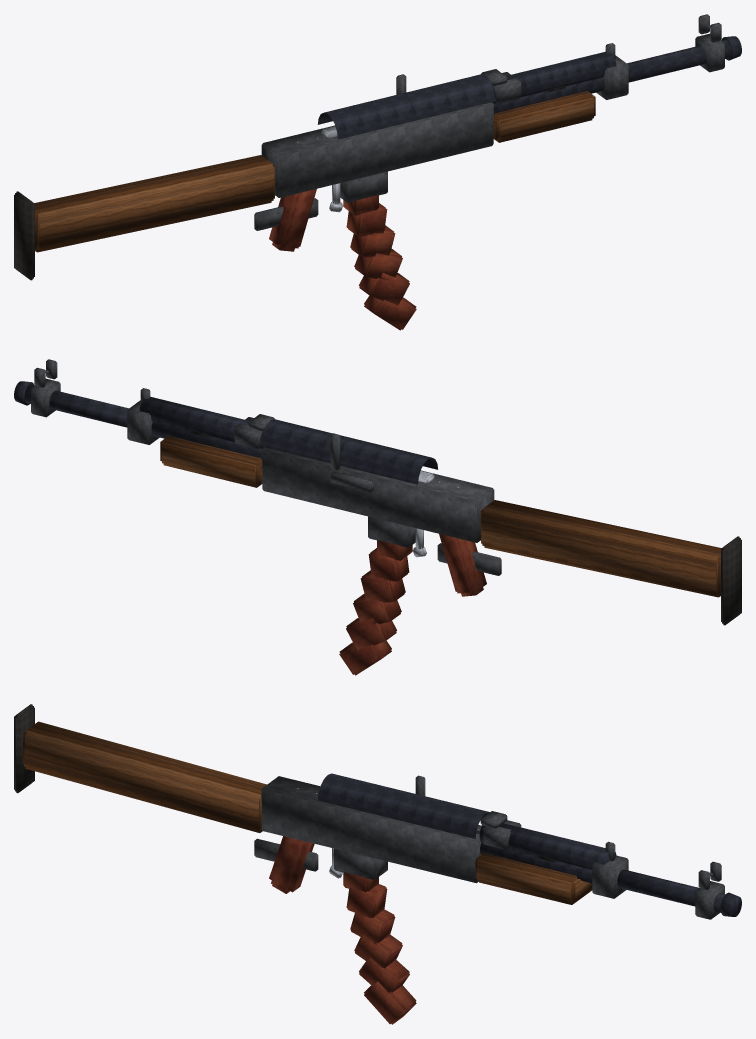
3 views of the same model, one above another, from view 1: azimuth 30°, elevation 25°; view 2: azimuth 150°, elevation 25°; view 3: azimuth 330°, elevation 25° (orthographic).
Parts seen in each view (by area): view 1: Outer_Shell, Inner_Part_13, Inner_Part_1, Inner_Part_2, Inner_Part_8, Inner_Part_11, Inner_Part_7, Inner_Part_15, Inner_Part_14, Inner_Part_10, Inner_Part_9, Inner_Part_12; view 2: Inner_Part_13, Outer_Shell, Inner_Part_1, Inner_Part_2, Inner_Part_8, Inner_Part_11, Inner_Part_7, Inner_Part_15, Inner_Part_14, Inner_Part_10, Inner_Part_9, Inner_Part_18 (+1 smaller); view 3: Outer_Shell, Inner_Part_13, Inner_Part_1, Inner_Part_2, Inner_Part_8, Inner_Part_11, Inner_Part_7, Inner_Part_15, Inner_Part_9, Inner_Part_14, Inner_Part_10, Inner_Part_12.
Part boxes in pixels (left/top/right/bottom): Outer_Shell: left=254, top=102, right=493, bottom=230; Inner_Part_13: left=34, top=155, right=275, bottom=252; Inner_Part_1: left=343, top=195, right=416, bottom=330; Inner_Part_2: left=317, top=74, right=495, bottom=139; Inner_Part_8: left=493, top=91, right=595, bottom=142; Inner_Part_11: left=493, top=36, right=741, bottom=115; Inner_Part_7: left=492, top=51, right=616, bottom=103; Inner_Part_15: left=269, top=189, right=316, bottom=251; Inner_Part_14: left=14, top=191, right=34, bottom=280; Inner_Part_10: left=695, top=14, right=724, bottom=72; Inner_Part_9: left=596, top=43, right=628, bottom=99; Inner_Part_12: left=481, top=69, right=521, bottom=103; Inner_Part_13: left=480, top=500, right=721, bottom=597; Outer_Shell: left=262, top=447, right=501, bottom=575; Inner_Part_1: left=339, top=540, right=412, bottom=675; Inner_Part_2: left=260, top=419, right=438, bottom=484; Inner_Part_8: left=160, top=436, right=262, bottom=487; Inner_Part_11: left=14, top=381, right=262, bottom=460; Inner_Part_7: left=139, top=396, right=263, bottom=448; Inner_Part_15: left=439, top=534, right=486, bottom=596; Inner_Part_14: left=721, top=536, right=741, bottom=625; Inner_Part_10: left=31, top=359, right=60, bottom=417; Inner_Part_9: left=127, top=388, right=159, bottom=444; Inner_Part_18: left=330, top=433, right=373, bottom=492; Outer_Shell: left=254, top=776, right=481, bottom=883; Inner_Part_13: left=22, top=721, right=266, bottom=832; Inner_Part_1: left=343, top=872, right=416, bottom=1024; Inner_Part_2: left=317, top=773, right=489, bottom=838; Inner_Part_8: left=475, top=853, right=592, bottom=904; Inner_Part_11: left=480, top=842, right=741, bottom=916; Inner_Part_7: left=479, top=823, right=616, bottom=869; Inner_Part_15: left=269, top=836, right=314, bottom=893; Inner_Part_9: left=592, top=841, right=628, bottom=898; Inner_Part_14: left=14, top=704, right=34, bottom=793; Inner_Part_10: left=695, top=861, right=724, bottom=919; Inner_Part_12: left=480, top=811, right=521, bottom=849.
Size of the model in its own units: 0.861 by 0.2767 by 0.05.
Materials: 6 (6 with a texture image).
